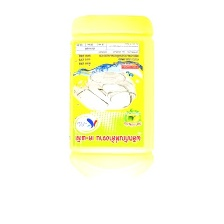cleaning_solution: (64, 12, 158, 215)
